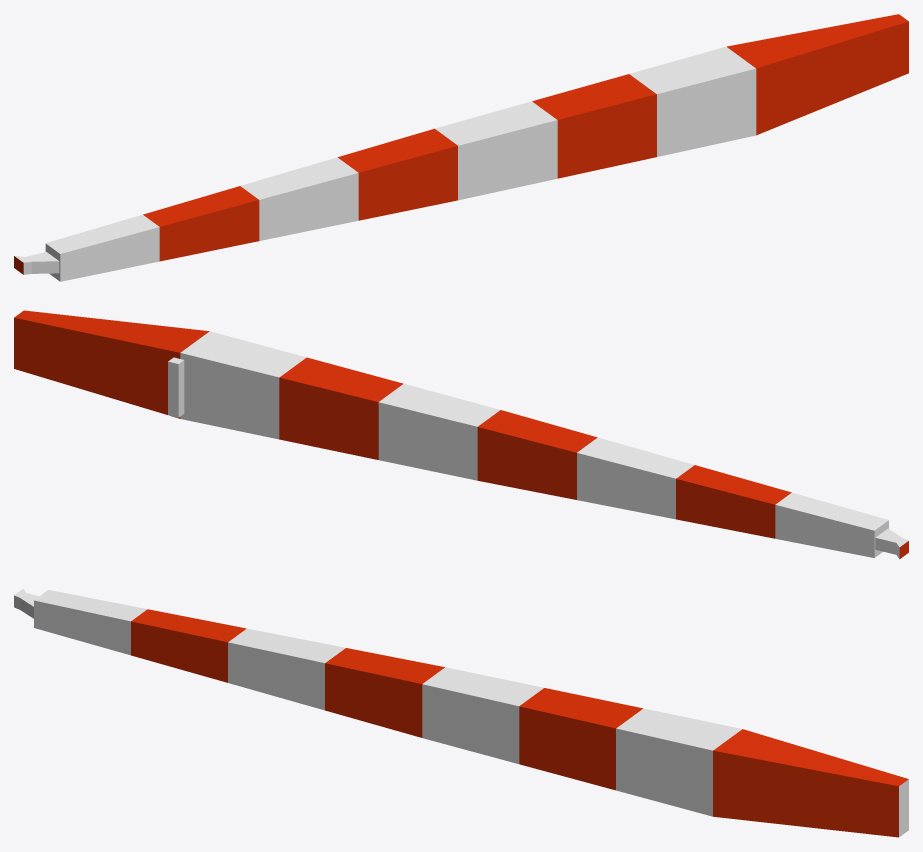
The model's file is small_crane_arm.glb.
3 renders of one model, top to bottom at view 1: azimuth 30°, elevation 25°; view 2: azimuth 150°, elevation 25°; view 3: azimuth 330°, elevation 25°, orthographic.
Visible parts, largest first — view 1: SEP_sub_crane; view 2: SEP_sub_crane; view 3: SEP_sub_crane.
Part boxes in pixels (<box>): SEP_sub_crane: <box>14,14,908,281</box>; SEP_sub_crane: <box>14,310,908,559</box>; SEP_sub_crane: <box>14,588,908,837</box>.
Size of the model in its own units: 39.55 by 2.84 by 2.74.
